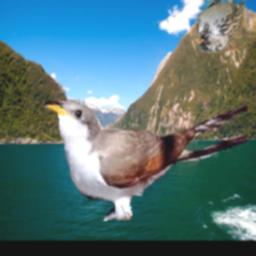Cuckoo: (43, 100, 248, 222)
Sparrow: (196, 0, 246, 53)
